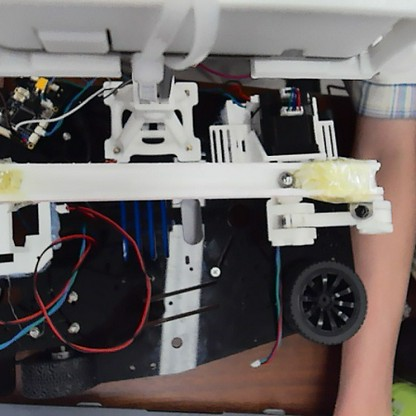ironball: (274, 169, 294, 189)
